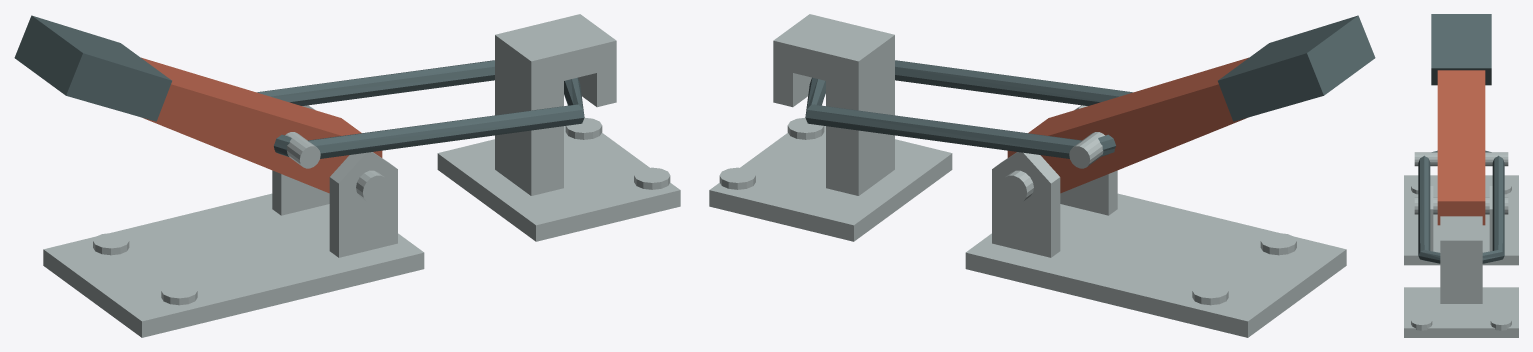
3 renders of one model, left to right at view 1: azimuth 30°, elevation 25°; view 2: azimuth 150°, elevation 25°; view 3: azimuth 270°, elevation 25°, orthographic. The views are drawn at different scales.
Visible parts, largest first — view 1: WholeLeverMountingPlate, WholeReturnedKeeperHook, WholeKeeperMountingPlate, WholeRaisedOperatingLever, WholeContinuousClosedDrawLoop, WholeLeverEndOvergrip, WholePivotCheek0, WholePivotCheek1, WholeOffsetDrawLoopPivot, WholeMainLeverPivot, WholeProudMountCapLeverNear, WholeProudMountCapLeverFar (+2 smaller); view 2: WholeLeverMountingPlate, WholeReturnedKeeperHook, WholeKeeperMountingPlate, WholeRaisedOperatingLever, WholeContinuousClosedDrawLoop, WholeLeverEndOvergrip, WholePivotCheek1, WholePivotCheek0, WholeOffsetDrawLoopPivot, WholeMainLeverPivot, WholeProudMountCapLeverNear, WholeProudMountCapLeverFar (+2 smaller); view 3: WholeRaisedOperatingLever, WholeKeeperMountingPlate, WholeReturnedKeeperHook, WholeLeverEndOvergrip, WholeLeverMountingPlate, WholeContinuousClosedDrawLoop, WholeOffsetDrawLoopPivot, WholeMainLeverPivot, WholeProudMountCapKeeperNear, WholeProudMountCapKeeperFar, WholePivotCheek0, WholePivotCheek1.
Part boxes in pixels (left/top/right/bottom): WholeLeverMountingPlate: left=43, top=193, right=424, bottom=337; WholeReturnedKeeperHook: left=495, top=14, right=616, bottom=195; WholeKeeperMountingPlate: left=437, top=126, right=680, bottom=241; WholeRaisedOperatingLever: left=141, top=57, right=382, bottom=193; WholeContinuousClosedDrawLoop: left=257, top=60, right=584, bottom=158; WholeLeverEndOvergrip: left=14, top=15, right=171, bottom=121; WholePivotCheek0: left=329, top=152, right=397, bottom=257; WholePivotCheek1: left=272, top=105, right=329, bottom=215; WholeOffsetDrawLoopPivot: left=285, top=132, right=320, bottom=168; WholeMainLeverPivot: left=356, top=170, right=388, bottom=203; WholeProudMountCapLeverNear: left=161, top=283, right=197, bottom=305; WholeProudMountCapLeverFar: left=93, top=233, right=129, bottom=255; WholeLeverMountingPlate: left=965, top=193, right=1346, bottom=337; WholeReturnedKeeperHook: left=773, top=14, right=894, bottom=195; WholeKeeperMountingPlate: left=709, top=126, right=952, bottom=241; WholeRaisedOperatingLever: left=1007, top=57, right=1248, bottom=193; WholeContinuousClosedDrawLoop: left=805, top=60, right=1132, bottom=158; WholeLeverEndOvergrip: left=1218, top=15, right=1375, bottom=121; WholePivotCheek1: left=992, top=152, right=1060, bottom=257; WholePivotCheek0: left=1060, top=105, right=1117, bottom=215; WholeOffsetDrawLoopPivot: left=1069, top=132, right=1104, bottom=168; WholeMainLeverPivot: left=1001, top=170, right=1033, bottom=203; WholeProudMountCapLeverNear: left=1260, top=233, right=1296, bottom=255; WholeProudMountCapLeverFar: left=1192, top=283, right=1228, bottom=305; WholeRaisedOperatingLever: left=1437, top=70, right=1485, bottom=225; WholeKeeperMountingPlate: left=1404, top=287, right=1518, bottom=337; WholeReturnedKeeperHook: left=1440, top=216, right=1482, bottom=303; WholeLeverEndOvergrip: left=1431, top=14, right=1491, bottom=85; WholeLeverMountingPlate: left=1404, top=175, right=1518, bottom=265; WholeContinuousClosedDrawLoop: left=1418, top=150, right=1504, bottom=263; WholeOffsetDrawLoopPivot: left=1414, top=152, right=1508, bottom=166; WholeMainLeverPivot: left=1414, top=197, right=1508, bottom=214; WholeProudMountCapKeeperNear: left=1411, top=316, right=1432, bottom=330; WholeProudMountCapKeeperFar: left=1490, top=316, right=1511, bottom=330; WholePivotCheek0: left=1430, top=186, right=1433, bottom=251; WholePivotCheek1: left=1489, top=186, right=1492, bottom=251.
Bounding box in the file's own units: 0.452 × 0.201 × 0.13.
